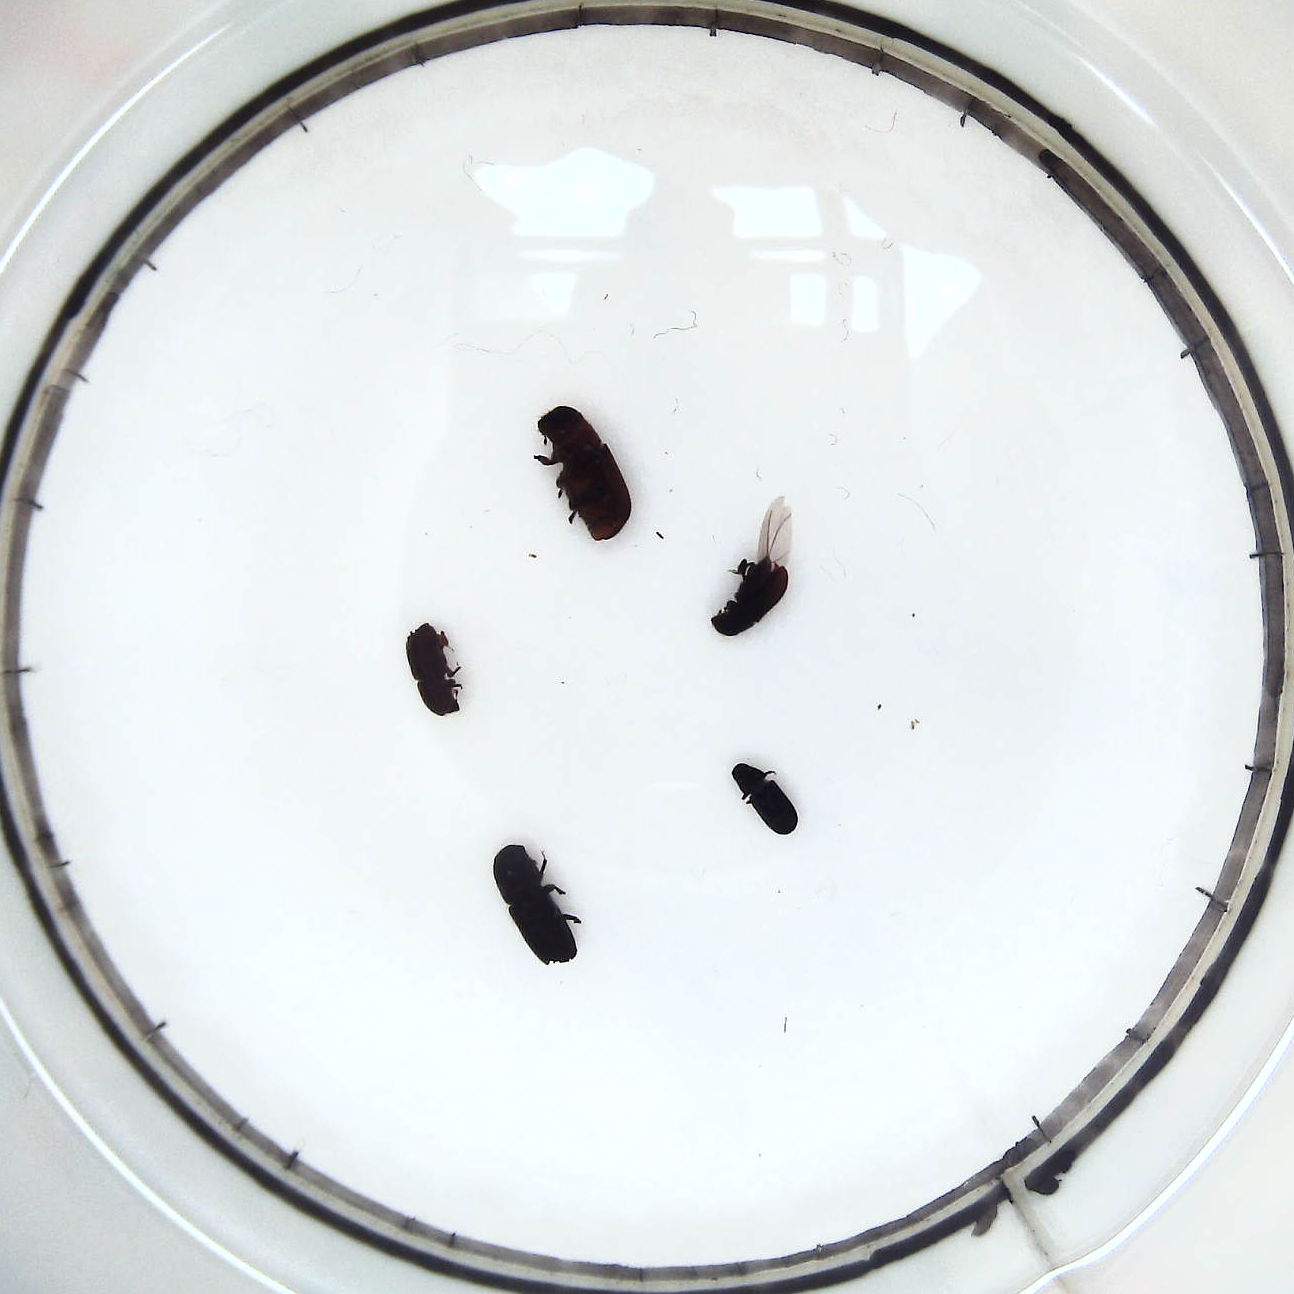Boerner: (495, 838, 590, 972)
Leconte: (534, 401, 639, 543)
armandi: (705, 501, 800, 636)
coleoptera: (728, 757, 800, 840)
linnaeus: (405, 614, 468, 723)
